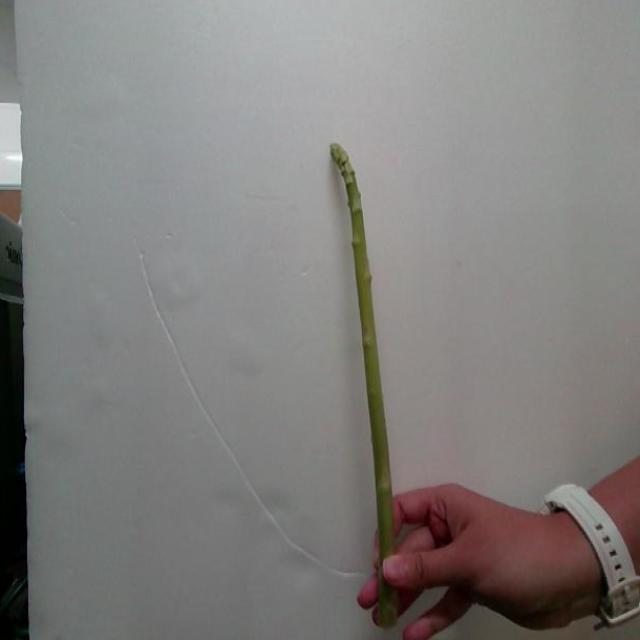aspargus: (331, 145, 399, 625)
